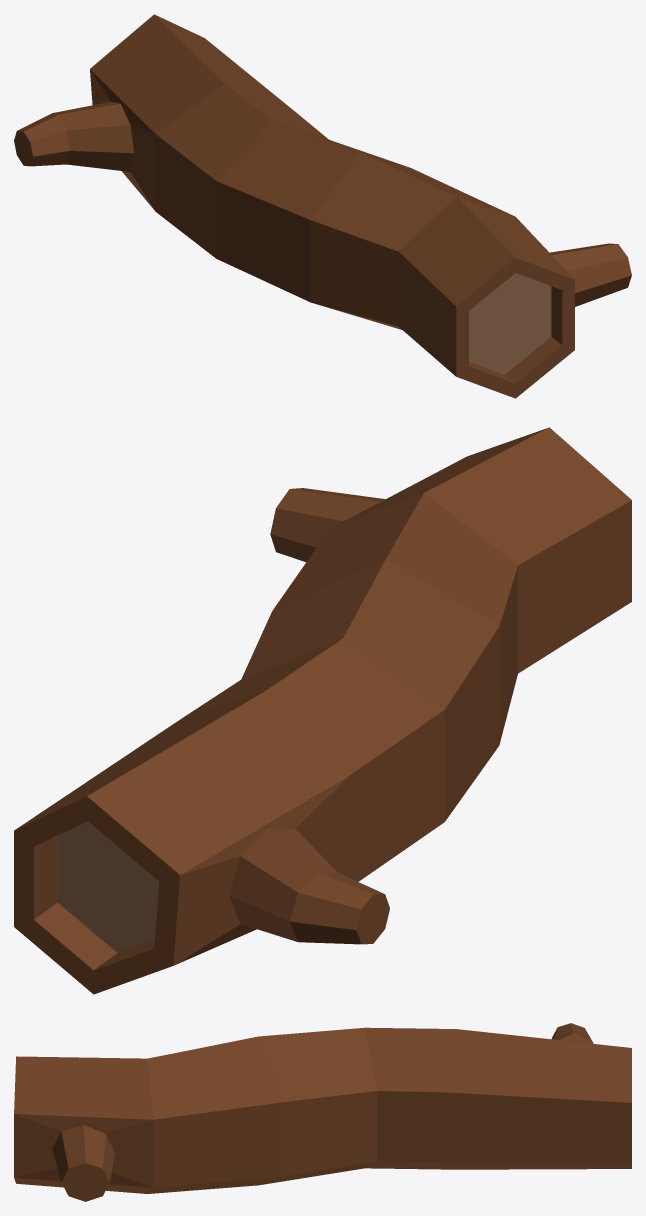
Rendered from Log_2.fbx.
3 renders of one model, top to bottom at view 1: azimuth 30°, elevation 25°; view 2: azimuth 150°, elevation 25°; view 3: azimuth 270°, elevation 25°, orthographic. The views are drawn at different scales.
Visible parts, largest first — view 1: Log_2; view 2: Log_2; view 3: Log_2.
Part boxes in pixels (box(x1,y1,x2,y2)): Log_2: box(14, 14, 631, 398); Log_2: box(14, 427, 631, 994); Log_2: box(14, 1023, 631, 1201).
Bounding box in the file's own units: 91.01 × 43.73 × 164.
